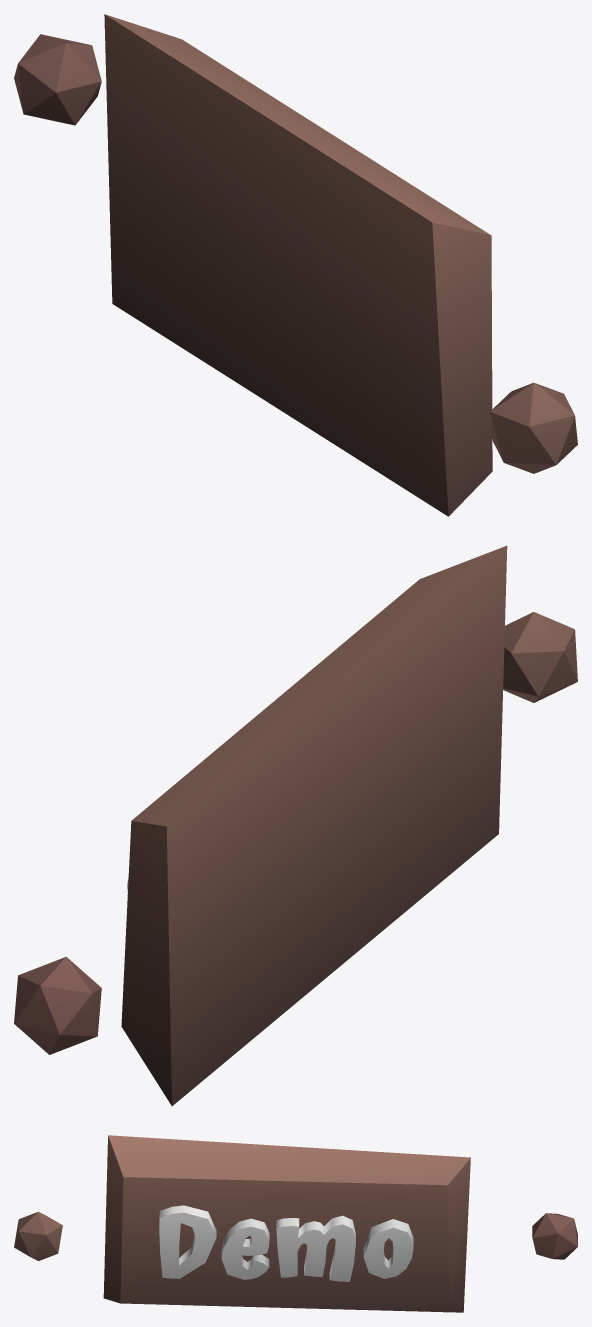
The model's file is msja-ui-button-demo.glb.
3 views of the same model, one above another, from view 1: azimuth 30°, elevation 25°; view 2: azimuth 150°, elevation 25°; view 3: azimuth 270°, elevation 25° (orthographic). The views are drawn at different scales.
Visible parts, largest first — view 1: act-1-button-demo; view 2: act-1-button-demo; view 3: act-1-button-demo.
Boxes of the visible parts, x1,y1,x2,y2 form: act-1-button-demo: [14, 14, 577, 516]; act-1-button-demo: [14, 545, 577, 1105]; act-1-button-demo: [14, 1135, 577, 1312].
Size of the model in its own units: 0.1095 by 0.343 by 0.9997.
Materials: 1 (1 with a texture image).
